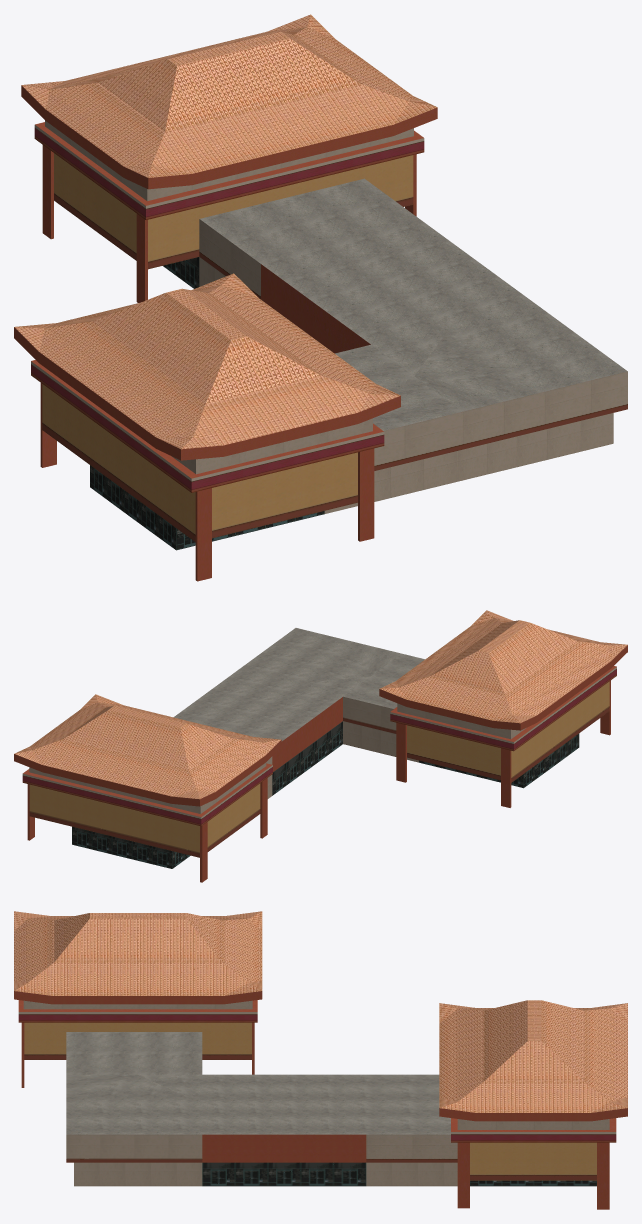
Rendered from chnatwnmll14_lvs.obj.
The picture shows the model from 3 angles, top to bottom: view 1: azimuth 30°, elevation 25°; view 2: azimuth 150°, elevation 25°; view 3: azimuth 270°, elevation 25°; orthographic projection. The views are drawn at different scales.
Parts seen in each view (by area): view 1: chnatwnmll14_lvs; view 2: chnatwnmll14_lvs; view 3: chnatwnmll14_lvs.
Boxes of the visible parts, x1,y1,x2,y2 form: chnatwnmll14_lvs: [14, 14, 627, 581]; chnatwnmll14_lvs: [14, 610, 627, 882]; chnatwnmll14_lvs: [14, 911, 627, 1209].
Size of the model in its own units: 59.89 by 19.85 by 78.95.
8 materials, 8 textured.
